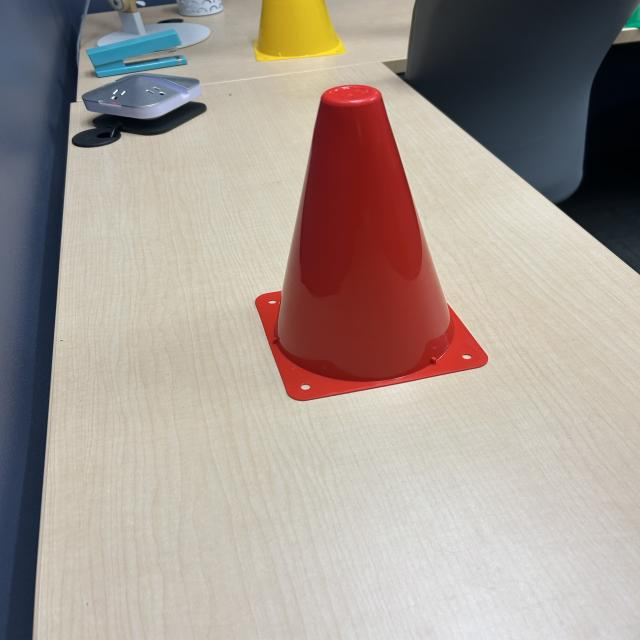orange cone: (241, 83, 505, 406)
